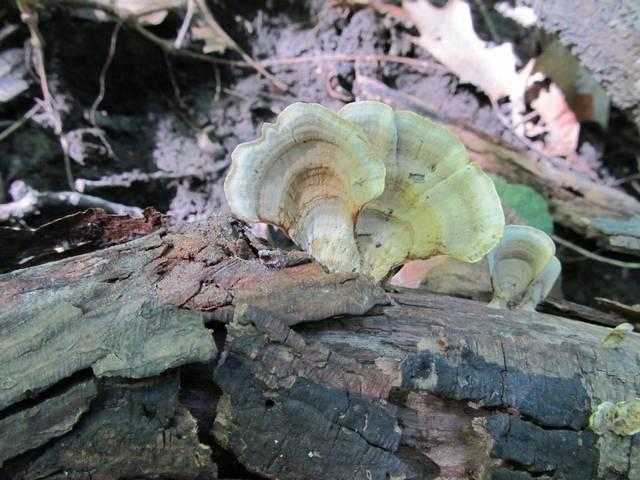poisonous_mushroom: (222, 98, 505, 285), (485, 223, 561, 312)
